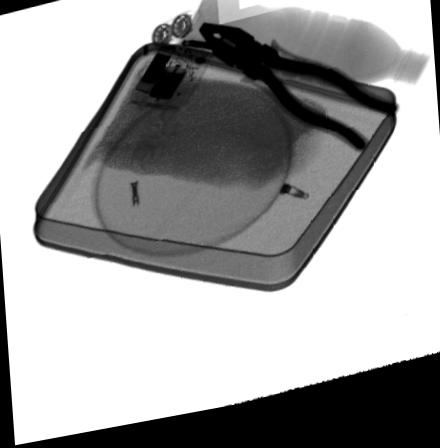Pliers: (197, 28, 402, 165)
